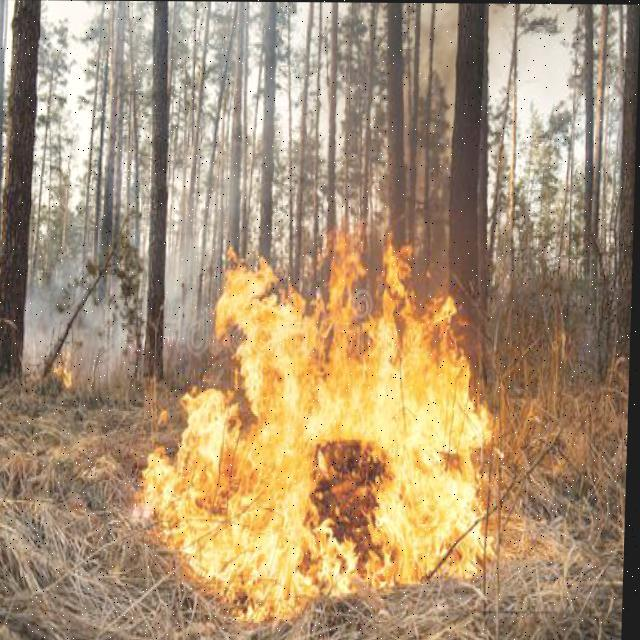Fire: (142, 223, 520, 597)
